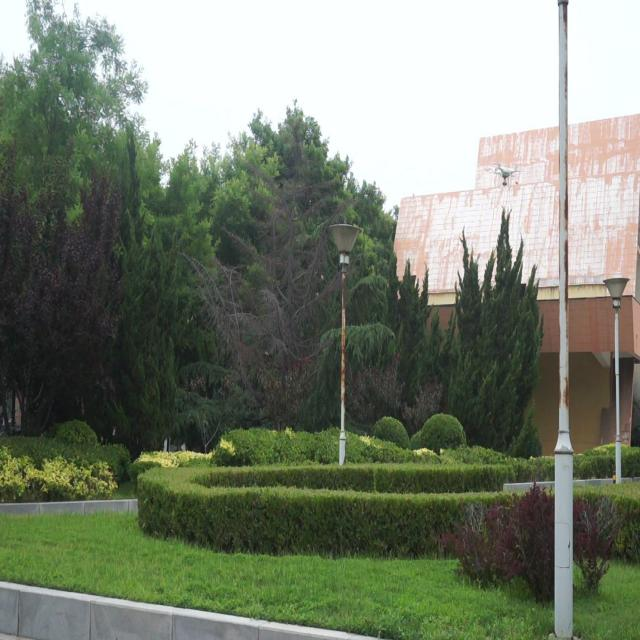UAV: (484, 161, 525, 189)
